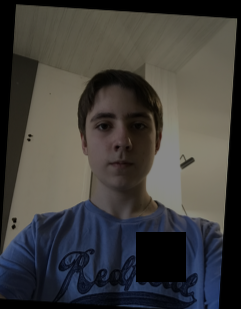without_mask: (85, 106, 156, 192)
